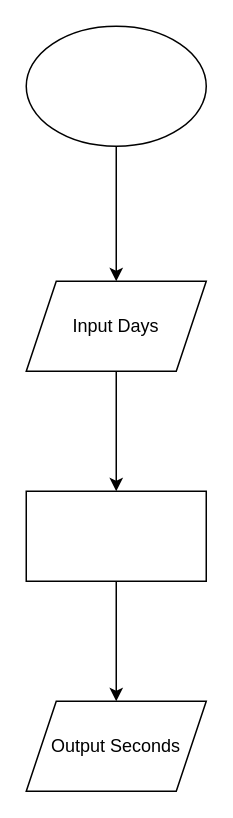
Image size: 233x818. Some labels were removed from this diagram. Each missing label, with the centre of its shape:
Days x 86400: point 115,535
start: point 115,85
